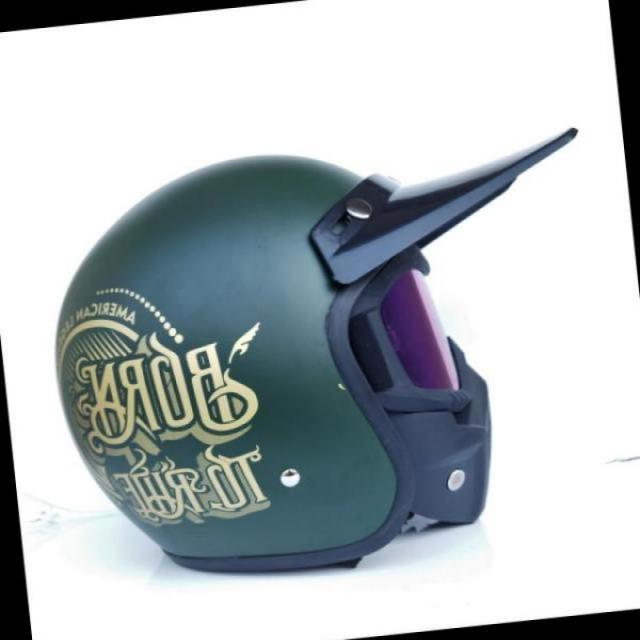Helmet: (53, 150, 516, 580)
